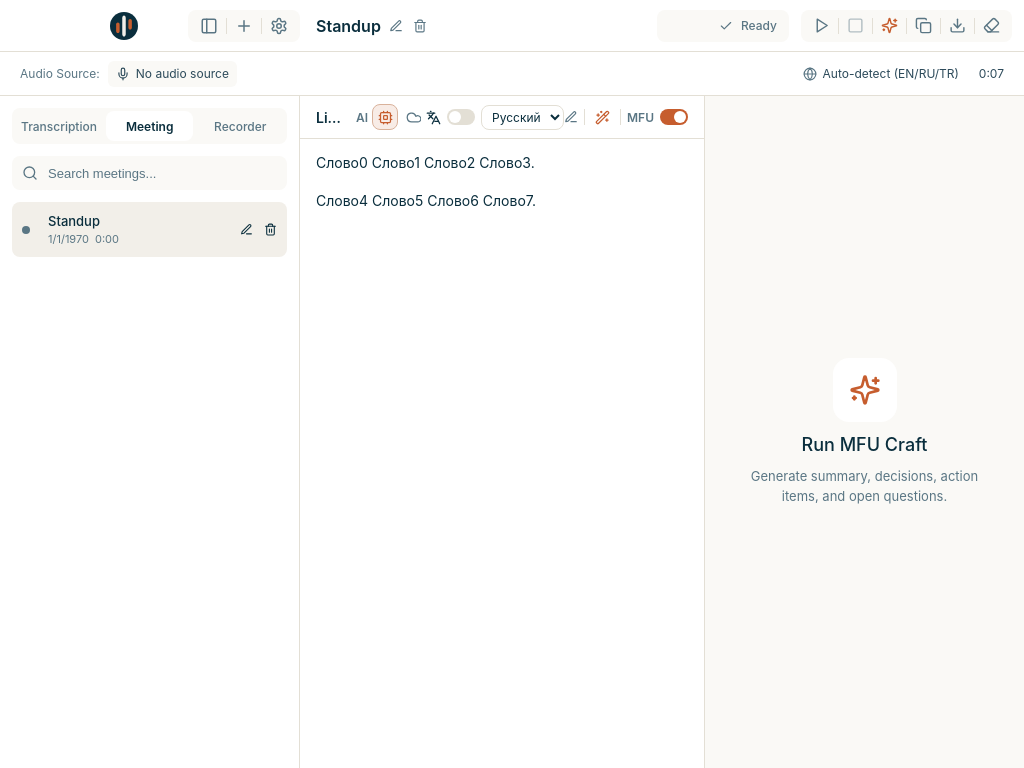
StreamingView — Live Translation split grid › switching on renders a two-column paired-row grid, one row per paragraph, inside the single existing scroll container
Click the text "Standup" at (74, 221), box [48,213,100,229]
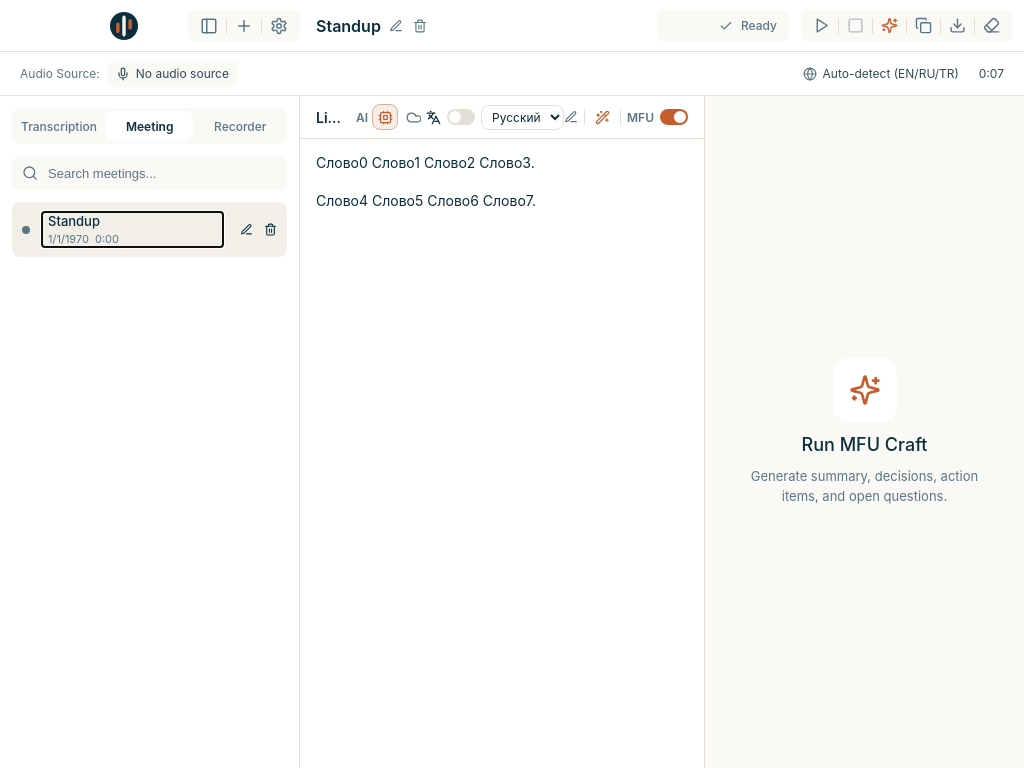
Click the switch named "Live Translation" at (461, 117), box [447,109,475,125]
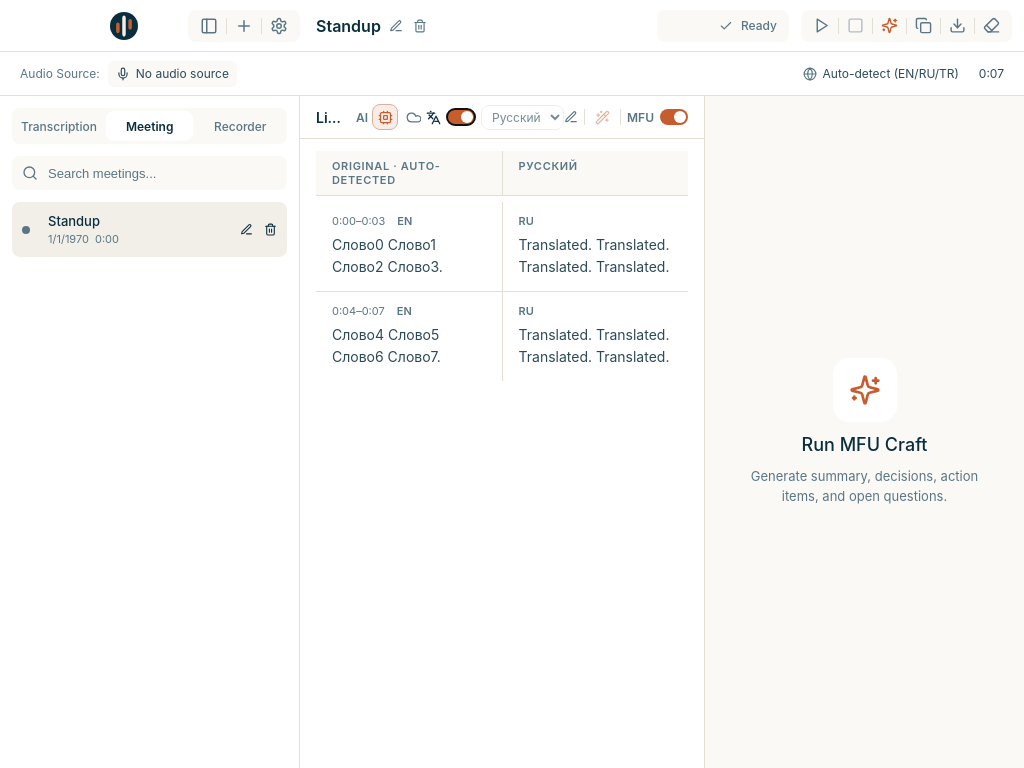
expect the text "ORIGINAL · AUTO-DETECTED" is shown: met, box [332,159,440,187]
expect the text "РУССКИЙ" is shown: met, box [518,159,578,173]
expect the element with class "wp-translation-grid" is shown: met, box [316,151,688,381]
